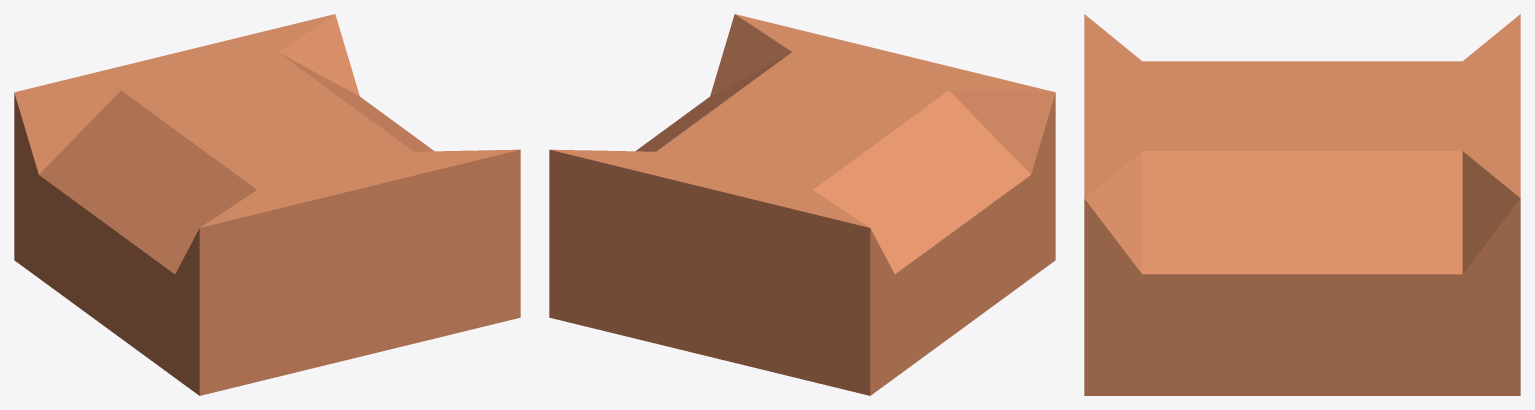
File: narrow.fbx
3 views of the same model, side by side, from view 1: azimuth 30°, elevation 25°; view 2: azimuth 150°, elevation 25°; view 3: azimuth 270°, elevation 25° (orthographic). The views are drawn at different scales.
Visible parts, largest first — view 1: Cube; view 2: Cube; view 3: Cube.
Part boxes in pixels (bbox=[...]): Cube: bbox=[14, 14, 520, 395]; Cube: bbox=[549, 14, 1055, 395]; Cube: bbox=[1084, 14, 1520, 395].
Size of the model in its own units: 200 by 100 by 200.
